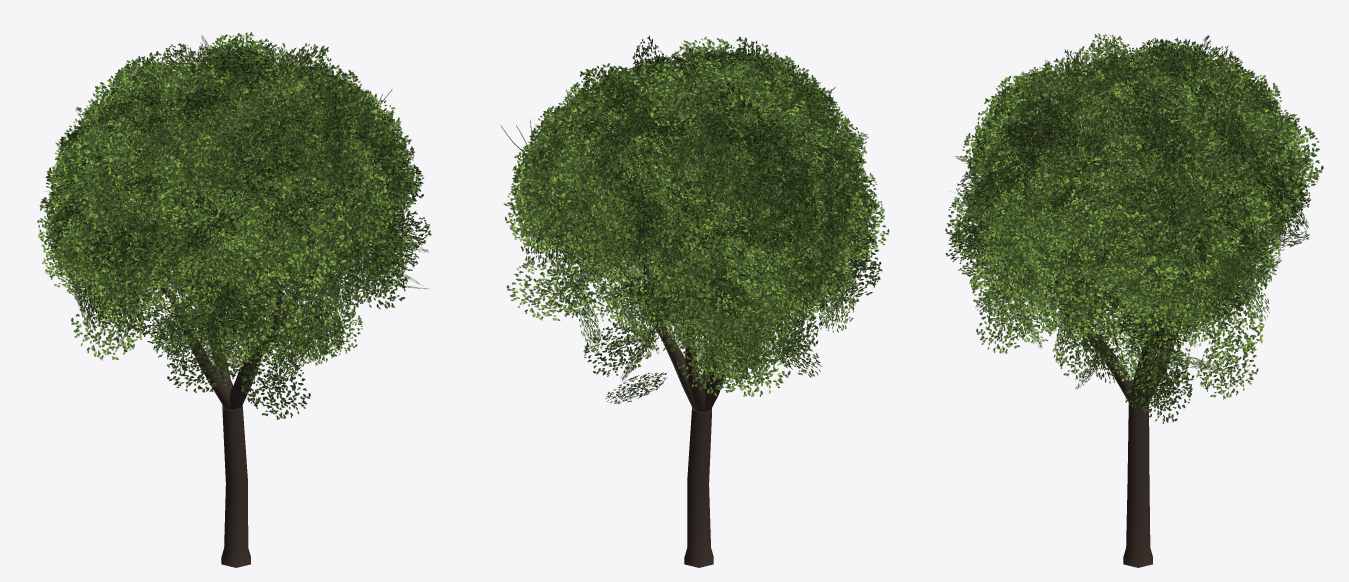
The model's file is tree_summer.glb.
The picture shows the model from 3 angles, left to right: view 1: azimuth 30°, elevation 25°; view 2: azimuth 150°, elevation 25°; view 3: azimuth 270°, elevation 25°; orthographic projection.
Parts seen in each view (by area): view 1: leaves, trunk; view 2: leaves, trunk; view 3: leaves, trunk.
Part boxes in pixels (<box>): leaves: <box>37,32,431,419</box>; trunk: <box>63,89,392,567</box>; leaves: <box>503,35,889,404</box>; trunk: <box>501,89,842,567</box>; leaves: <box>945,33,1323,423</box>; trunk: <box>1001,86,1183,567</box>.
Size of the model in its own units: 5.84 by 7.8 by 5.44.
2 materials, 1 textured.
